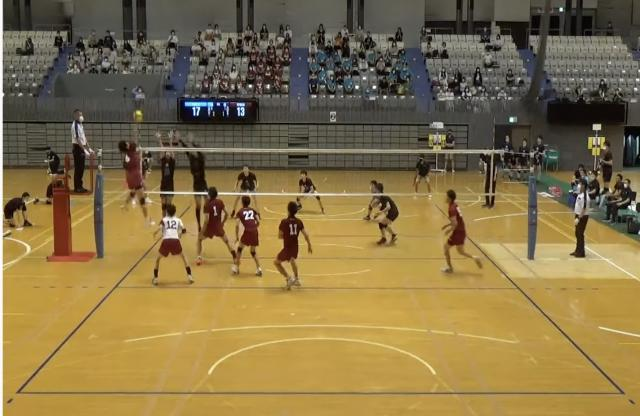spike: (118, 107, 157, 230)
